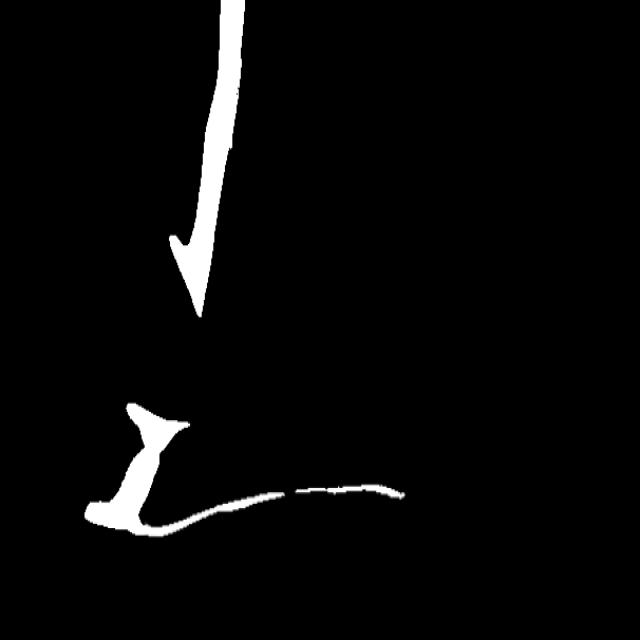sup: (277, 482, 302, 500)
